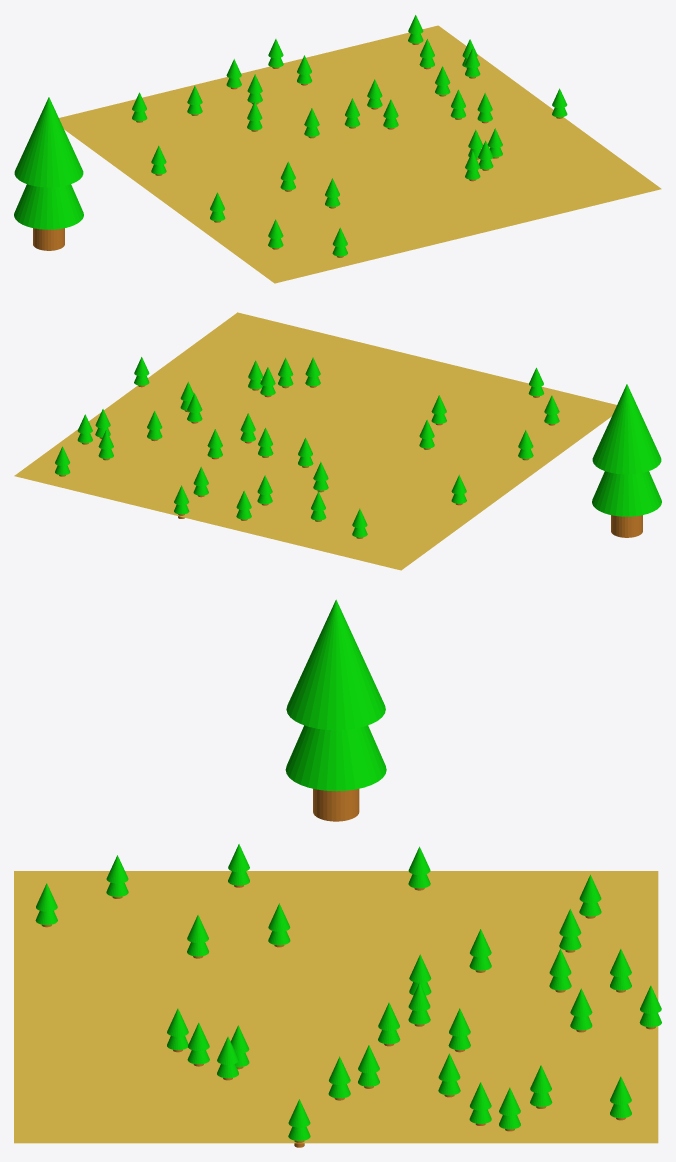
Rendered from random_trees_scene.glb.
3 renders of one model, top to bottom at view 1: azimuth 30°, elevation 25°; view 2: azimuth 150°, elevation 25°; view 3: azimuth 270°, elevation 25°, orthographic. The views are drawn at different scales.
Parts seen in each view (by area): view 1: Plane, Tree; view 2: Plane, Tree; view 3: Plane, Tree.
Part boxes in pixels (box(x1,y1,x2,y2)): Plane: box(59, 25, 661, 283); Tree: box(14, 97, 83, 250); Plane: box(14, 312, 616, 570); Tree: box(592, 384, 661, 537); Plane: box(14, 871, 658, 1143); Tree: box(285, 599, 386, 821).
Size of the model in its own units: 1085 by 286 by 790.
